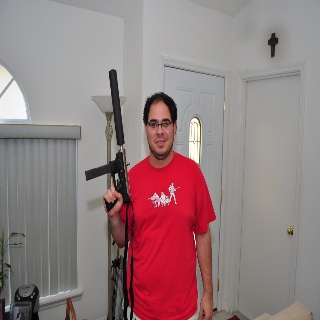rifle: (85, 68, 133, 211)
